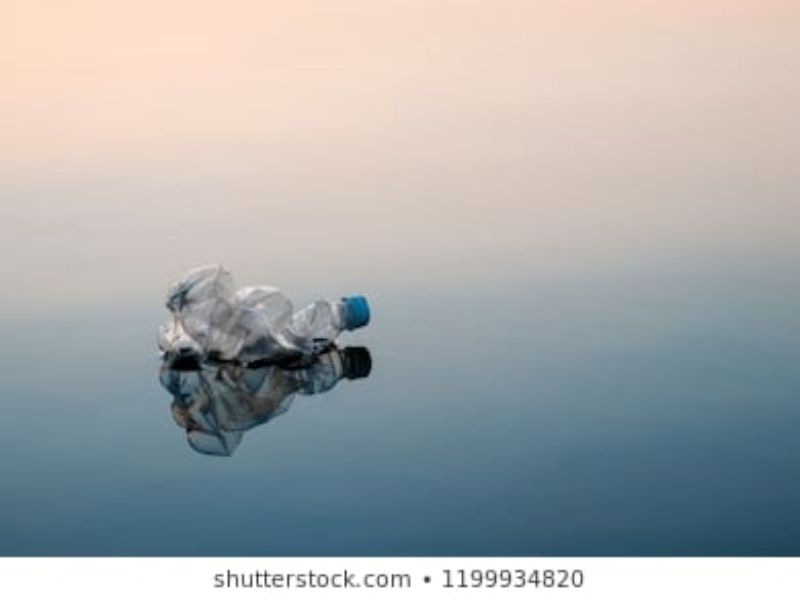plastic-bottle: (147, 346, 375, 464), (149, 265, 379, 358)
